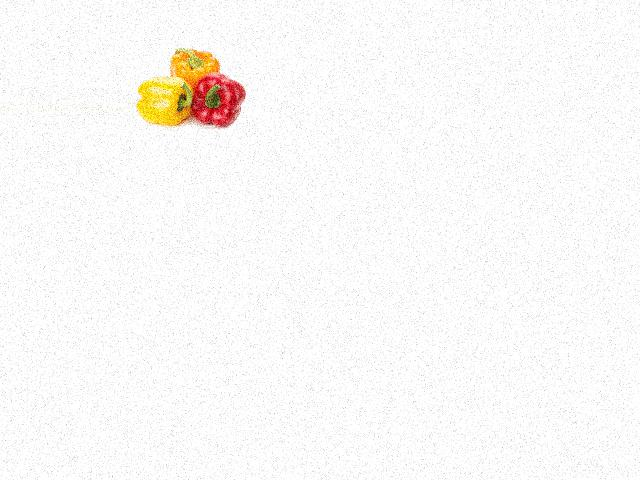bell_pepper: (136, 75, 190, 130)
